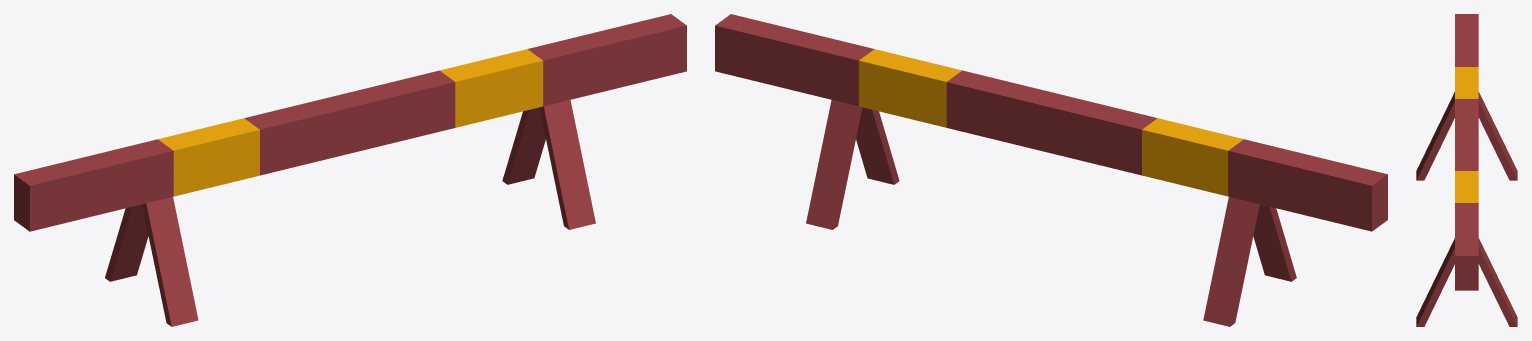
The model's file is tiesulkuUV.FBX.
3 renders of one model, left to right at view 1: azimuth 30°, elevation 25°; view 2: azimuth 150°, elevation 25°; view 3: azimuth 270°, elevation 25°, orthographic. The views are drawn at different scales.
Visible parts, largest first — view 1: tiesulku; view 2: tiesulku; view 3: tiesulku.
Part boxes in pixels (box(x1,y1,x2,y2)): tiesulku: box(14, 14, 686, 326); tiesulku: box(715, 14, 1387, 326); tiesulku: box(1416, 14, 1517, 326).
Bounding box in the file's own units: 120 × 26.32 × 21.17.
